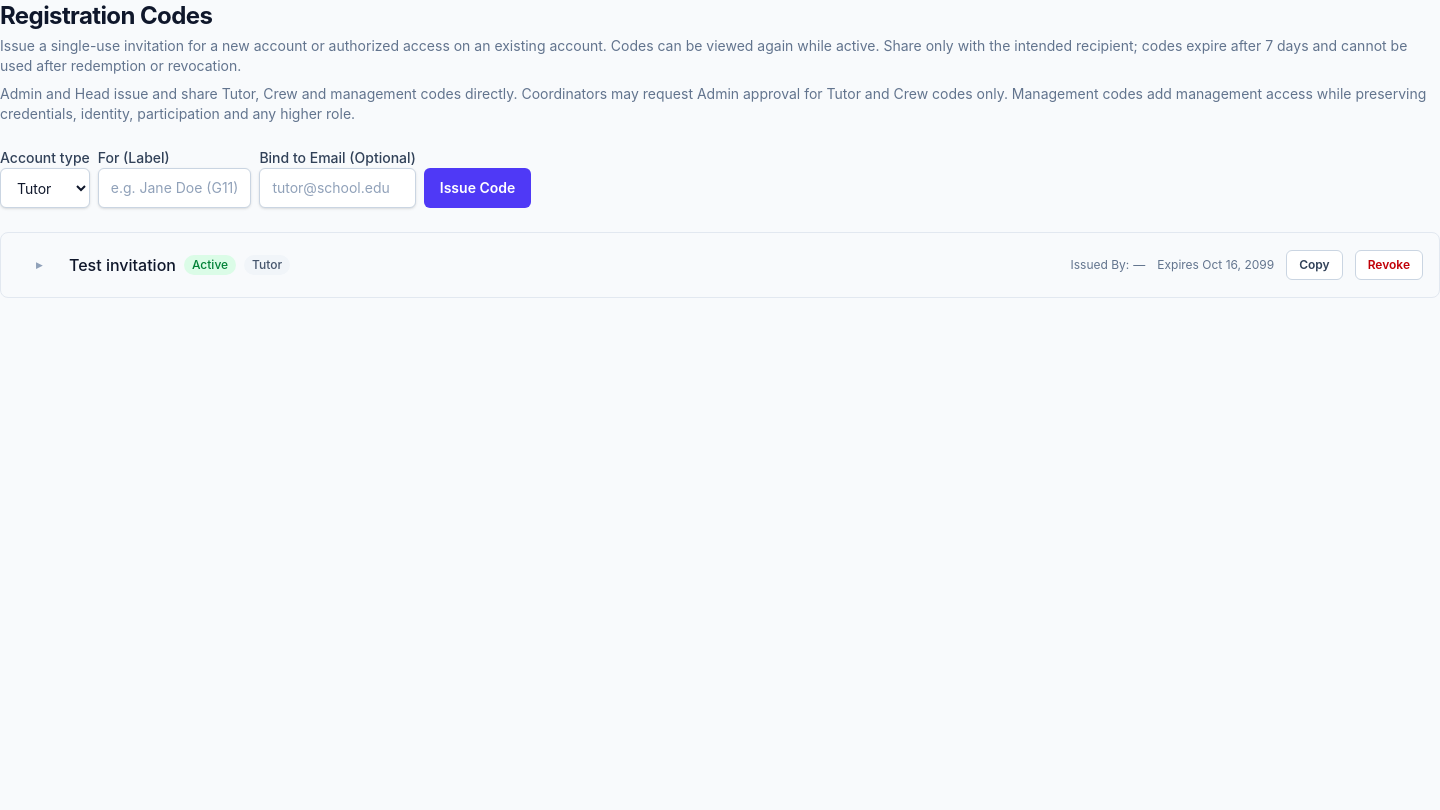
Test: registration code export availability › removes the freshly issued share card after revocation
Click the button "Issue Code" at (478, 188), box [424,168,531,208]
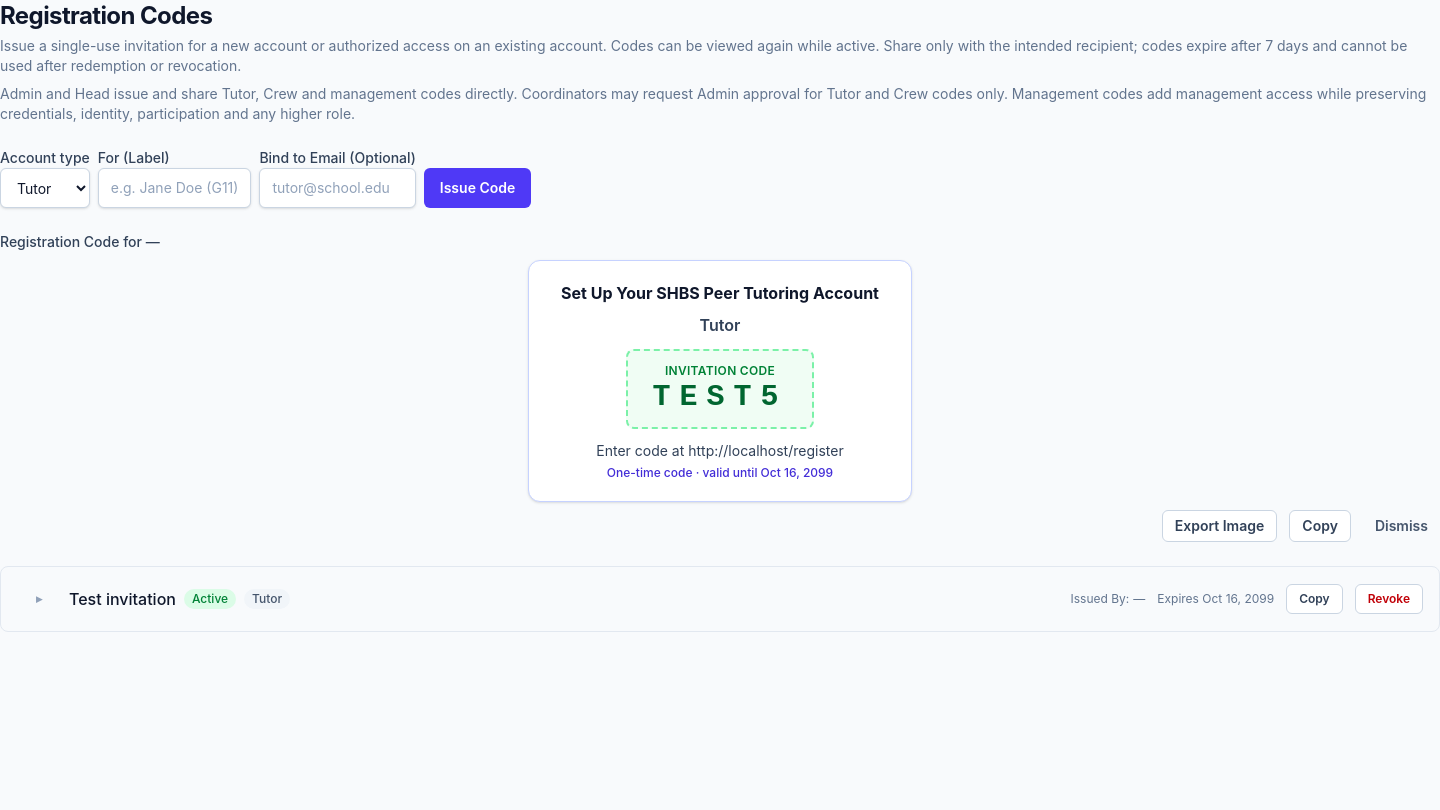
Expected: the button "Export Image" is shown, [1162,510,1277,542]
Click the button "Revoke" at (1389, 599), box [1355,584,1423,614]
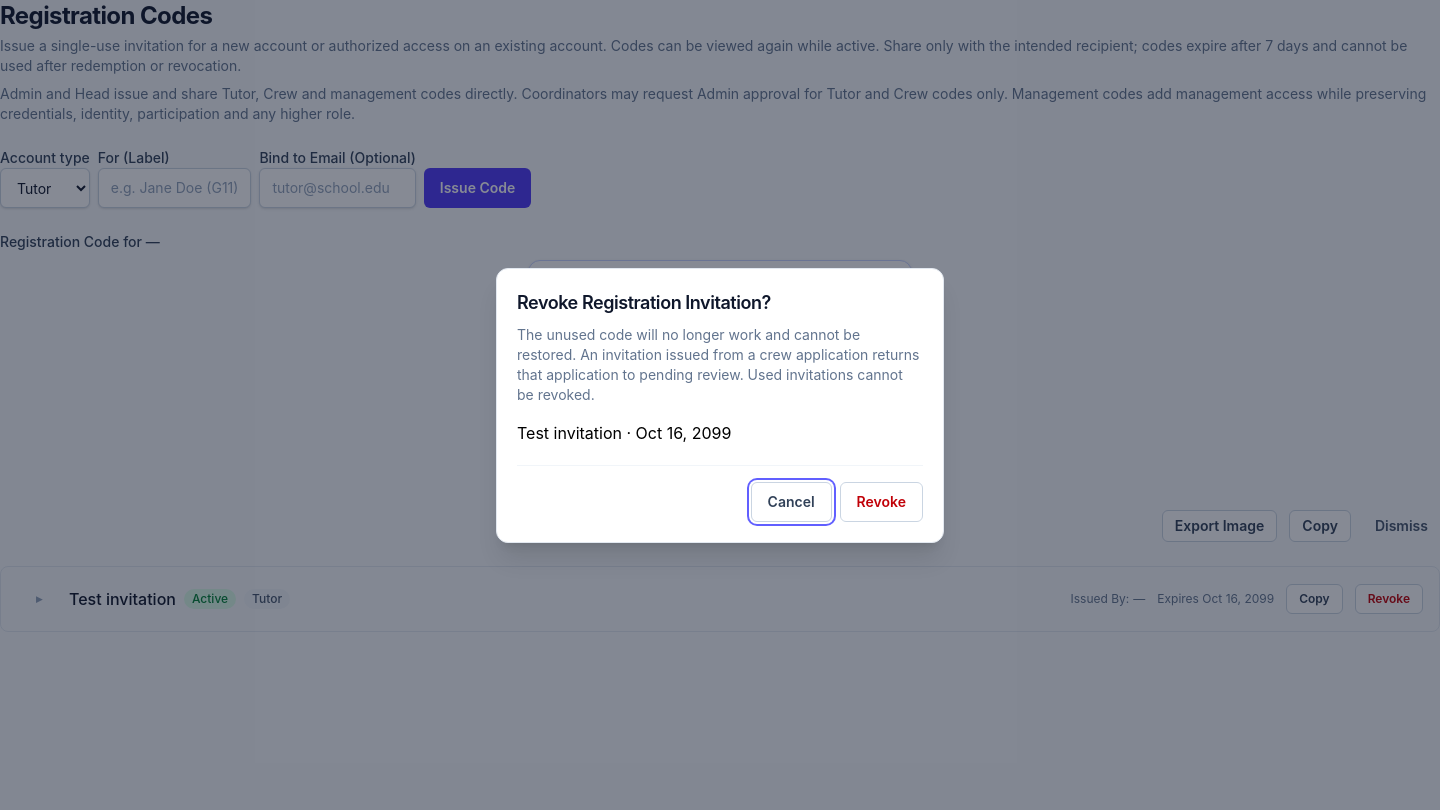
Expected: the dialog shows "Test invitation", [517,422,622,442]
Click the button "Cancel" at (791, 502), box [751,482,832,522]
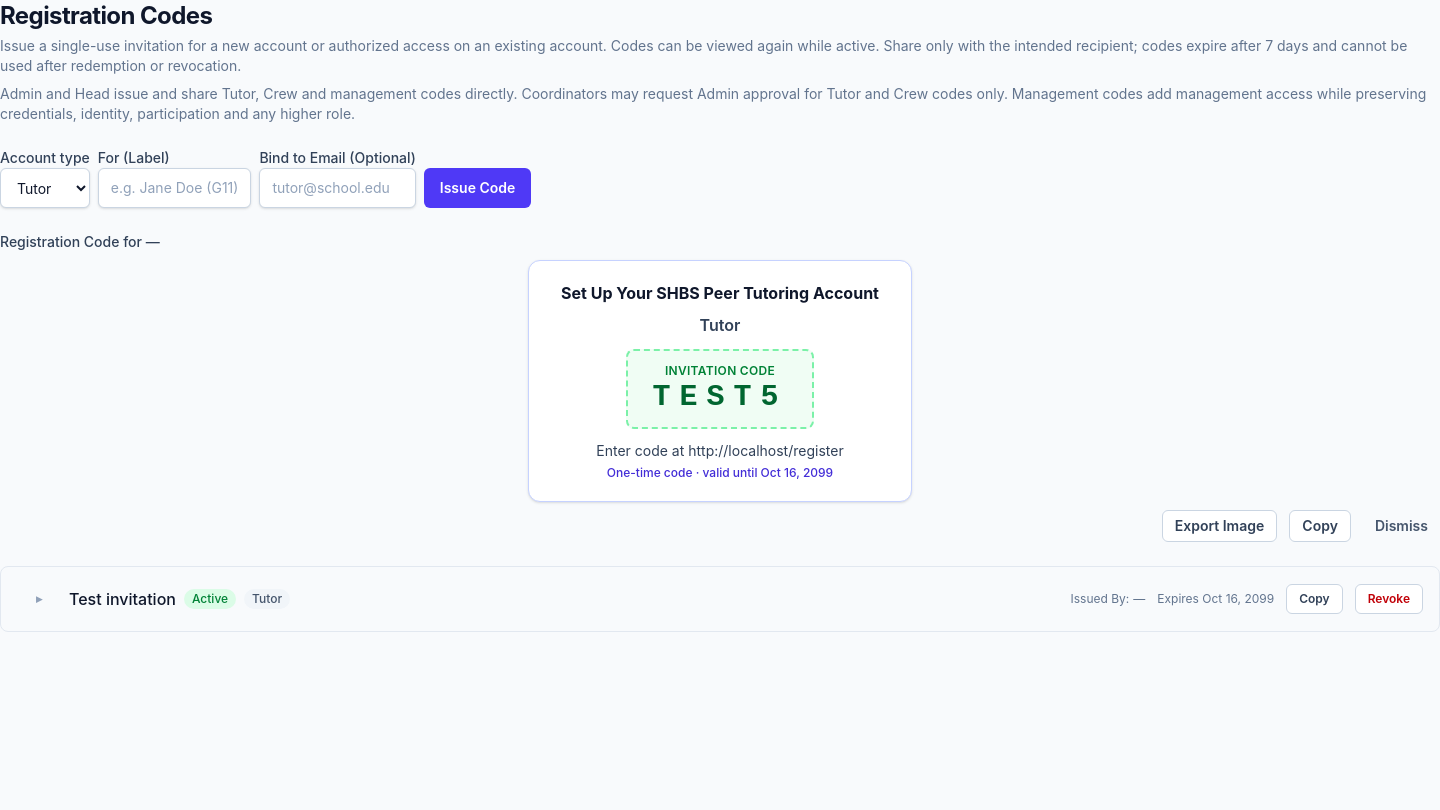
Click the button "Revoke" at (1389, 599), box [1355,584,1423,614]
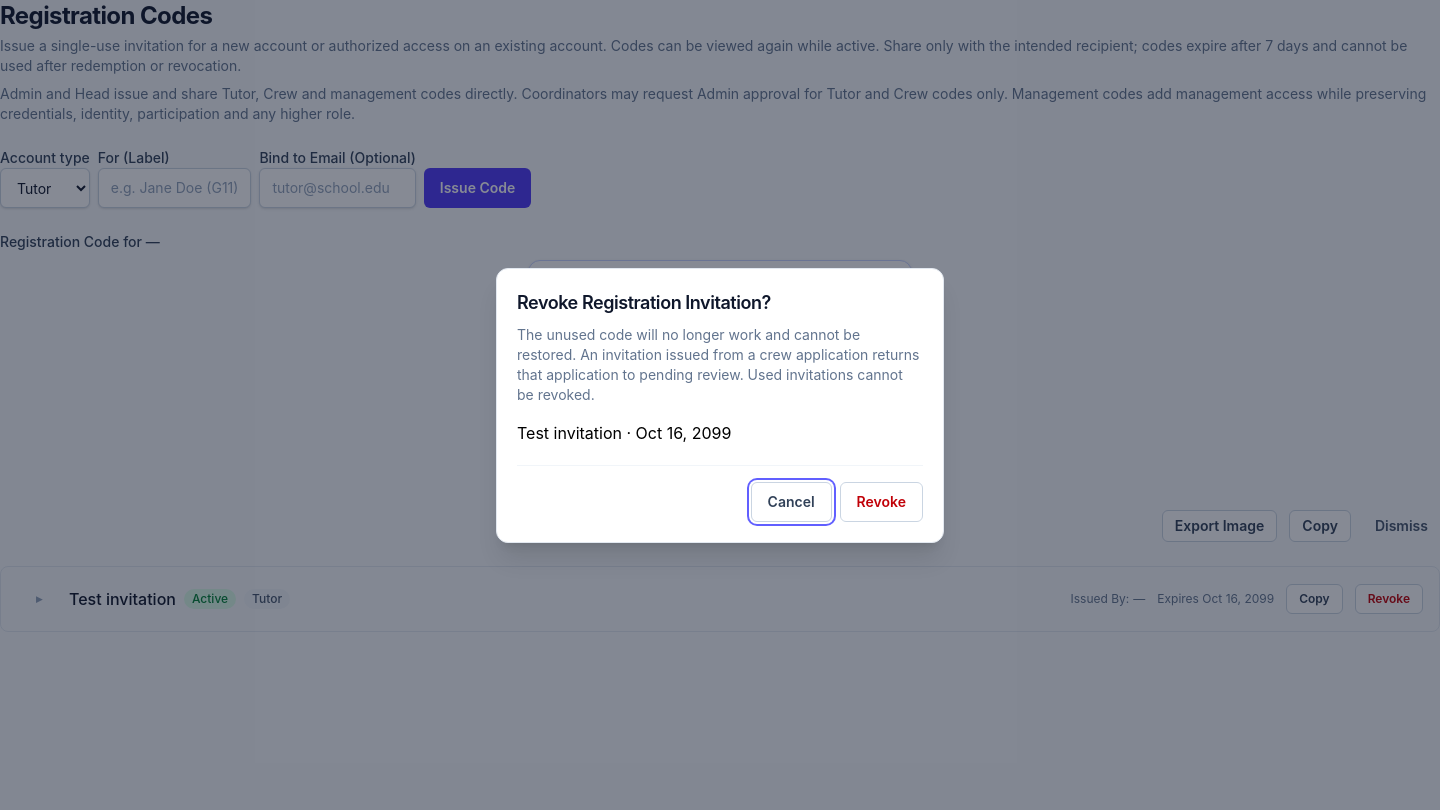
Click the button "Revoke" at (881, 502), box [840,482,923,522]
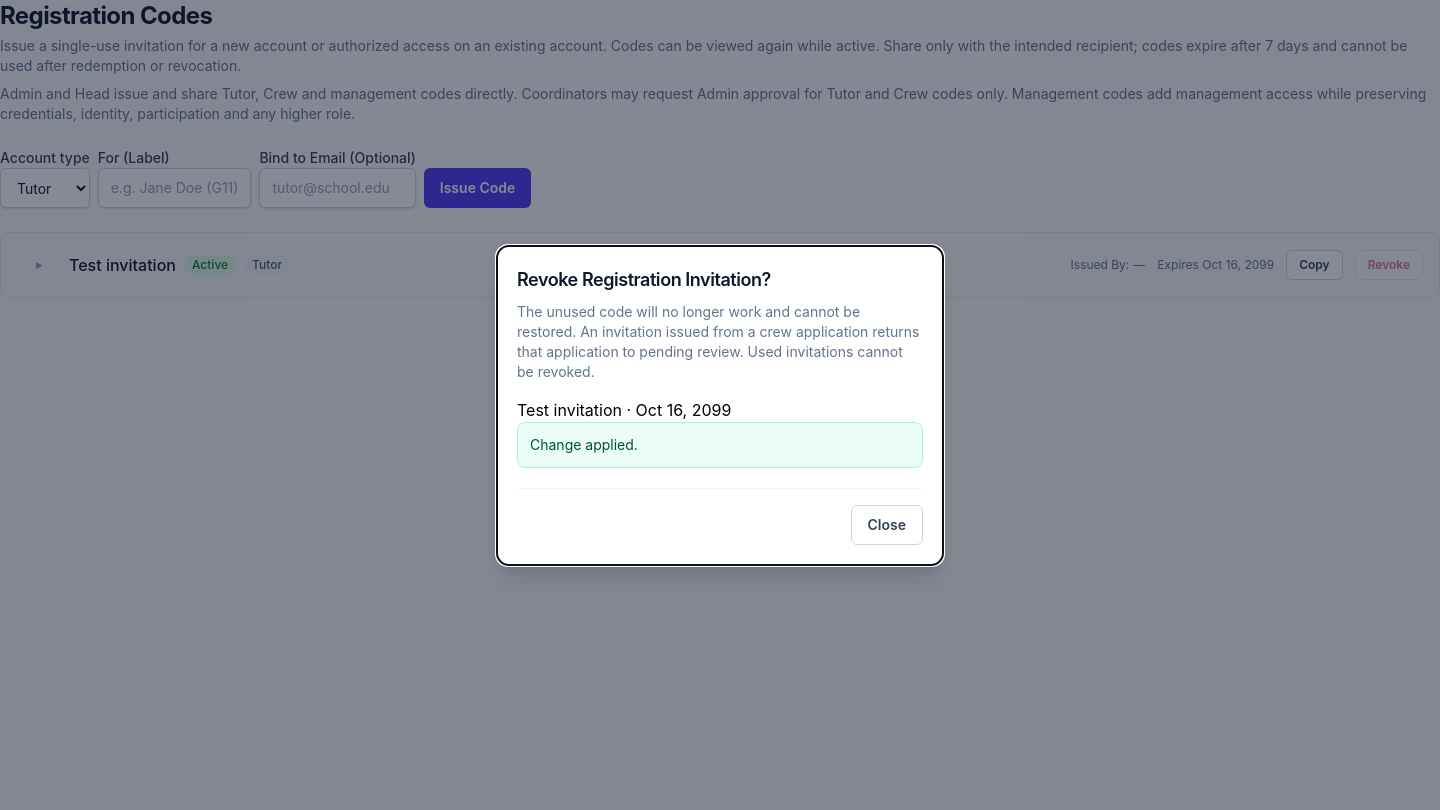
Expected: the button "Export Image" is gone
